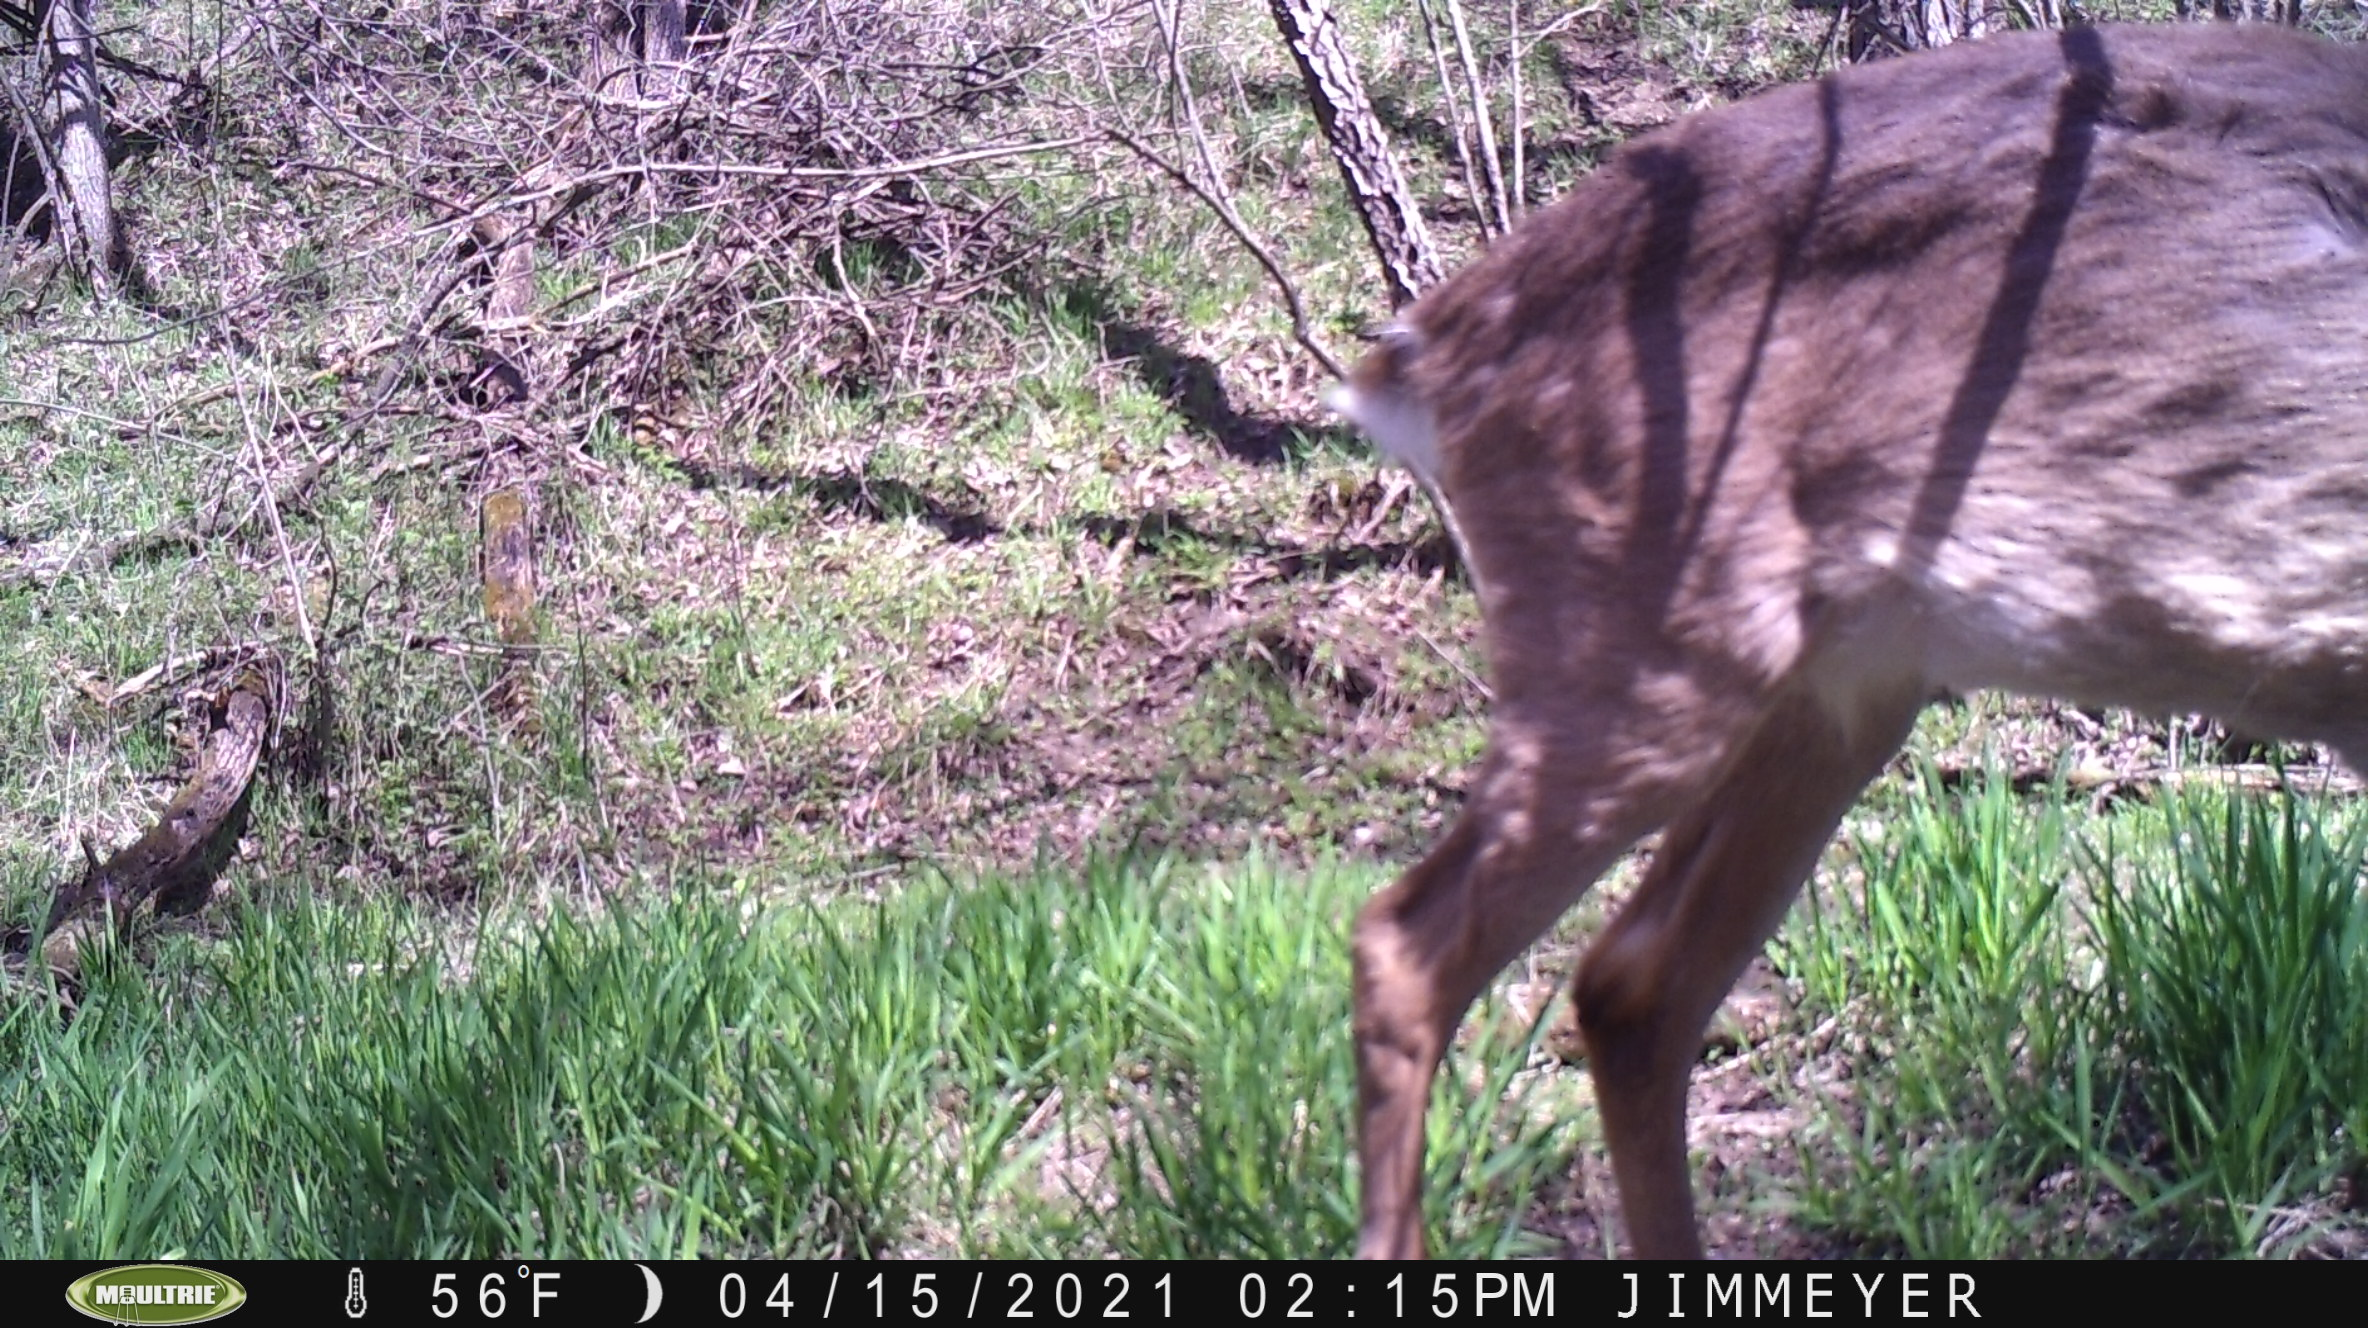Deer: (1311, 18, 2368, 1261)
